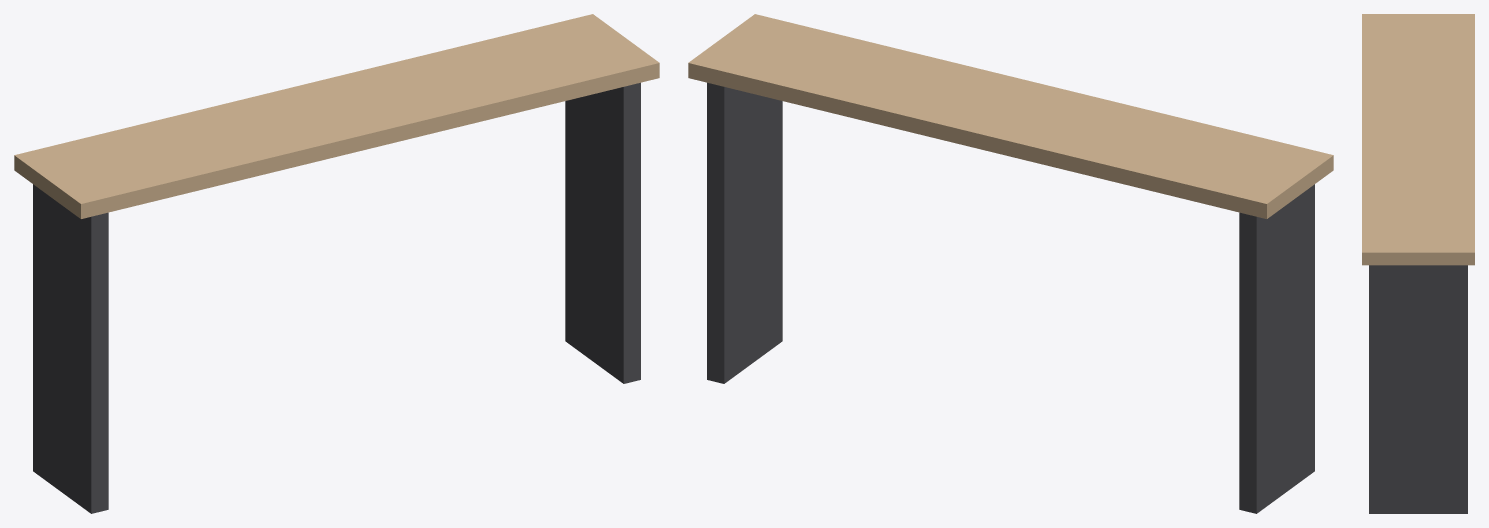
Rendered from WindowBarCounter.glb.
The picture shows the model from 3 angles, left to right: view 1: azimuth 30°, elevation 25°; view 2: azimuth 150°, elevation 25°; view 3: azimuth 270°, elevation 25°; orthographic projection. The views are drawn at different scales.
Parts seen in each view (by area): view 1: WindowBarCounter; view 2: WindowBarCounter; view 3: WindowBarCounter.
Boxes of the visible parts, left/top/right/bottom form: WindowBarCounter: left=14, top=14, right=659, bottom=513; WindowBarCounter: left=688, top=14, right=1333, bottom=513; WindowBarCounter: left=1362, top=14, right=1474, bottom=513.
Bounding box in the file's own units: 2 × 1.04 × 0.4.
